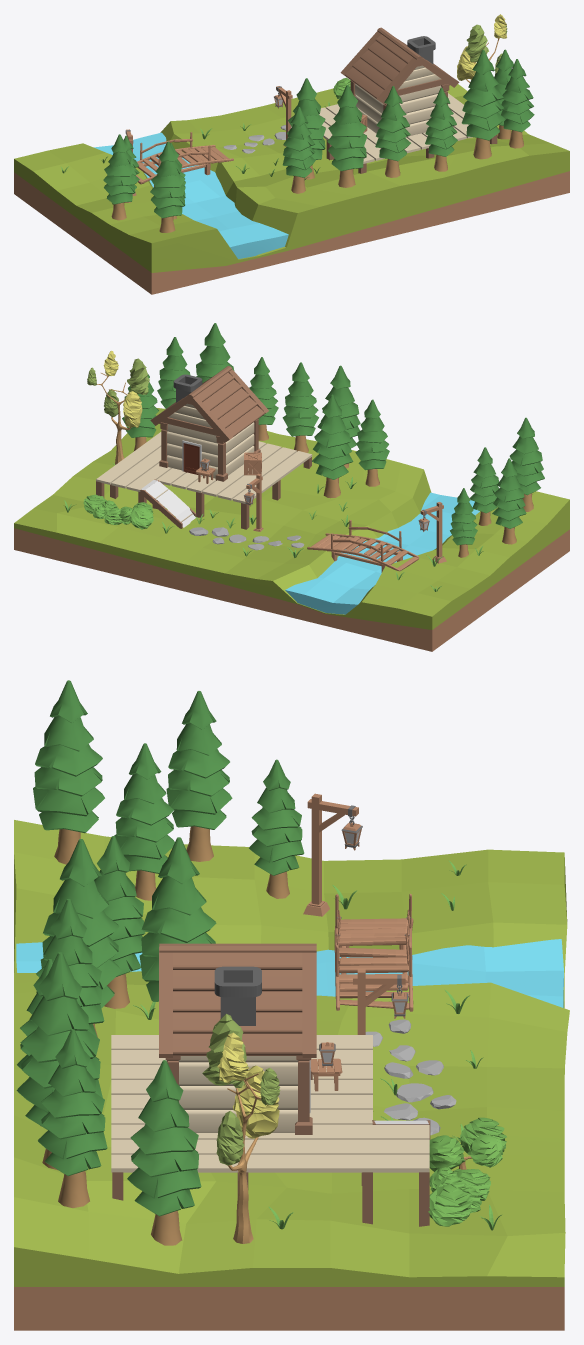
File: SmallHouse.glb
3 renders of one model, top to bottom at view 1: azimuth 30°, elevation 25°; view 2: azimuth 150°, elevation 25°; view 3: azimuth 270°, elevation 25°, orthographic. The views are drawn at different scales.
Parts seen in each view (by area): view 1: GroundColloder, Roof, River, Tree.007, Tree.001, Tree.009, Floor & stairs, Tree.004, Tree.008, Tree.003, Tree.011, Bridge (+6 smaller); view 2: GroundColloder, Roof, Floor & stairs, River, Tree, Tree.002, Bridge, Tree.004, Tree.003, Tree.009, Tree.011, Tree.010 (+13 smaller); view 3: GroundColloder, Roof, Floor & stairs, River, Tree.005, Tree.009, Tree.002, Tree.008, Tree.011, Tree.007, Bridge, Tree (+11 smaller).
Boxes of the visible parts, left/top/right/bottom form: GroundColloder: left=14, top=84, right=569, bottom=294; Roof: left=340, top=27, right=459, bottom=136; River: left=94, top=132, right=288, bottom=258; Tree.007: left=461, top=50, right=504, bottom=159; Tree.001: left=327, top=85, right=366, bottom=187; Tree.009: left=150, top=141, right=185, bottom=232; Floor & stairs: left=319, top=93, right=497, bottom=173; Tree.004: left=375, top=86, right=410, bottom=177; Tree.008: left=501, top=59, right=534, bottom=148; Tree.003: left=282, top=107, right=315, bottom=193; Tree.011: left=103, top=134, right=135, bottom=220; Bridge: left=136, top=132, right=233, bottom=186; GroundColloder: left=14, top=408, right=569, bottom=651; Roof: left=150, top=366, right=268, bottom=481; Floor & stairs: left=96, top=432, right=312, bottom=529; River: left=285, top=492, right=479, bottom=614; Tree: left=312, top=395, right=353, bottom=498; Tree.002: left=87, top=350, right=149, bottom=464; Bridge: left=307, top=520, right=419, bottom=572; Tree.004: left=282, top=362, right=318, bottom=452; Tree.003: left=355, top=399, right=389, bottom=486; Tree.009: left=509, top=417, right=544, bottom=511; Tree.011: left=492, top=458, right=526, bottom=544; Tree.010: left=469, top=447, right=498, bottom=525; GroundColloder: left=14, top=820, right=569, bottom=1330; Roof: left=159, top=943, right=316, bottom=1134; Floor & stairs: left=111, top=1035, right=430, bottom=1226; River: left=16, top=939, right=563, bottom=1007; Tree.005: left=127, top=1060, right=201, bottom=1245; Tree.009: left=33, top=680, right=104, bottom=864; Tree.002: left=202, top=1014, right=280, bottom=1243; Tree.008: left=38, top=1029, right=107, bottom=1207; Tree.011: left=166, top=691, right=232, bottom=861; Tree.007: left=16, top=952, right=102, bottom=1170; Bridge: left=334, top=893, right=413, bottom=1011; Tree: left=139, top=837, right=216, bottom=1001.
Size of what is drawn, in the model's own units: 36.86 by 12.81 by 21.2.
